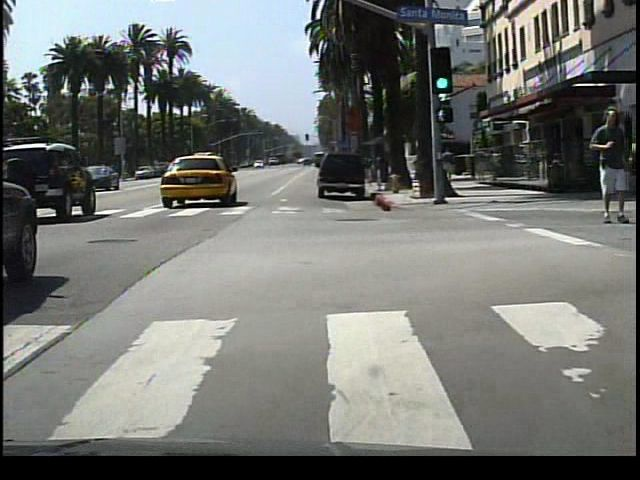person: (582, 102, 630, 225), (438, 145, 460, 185)
